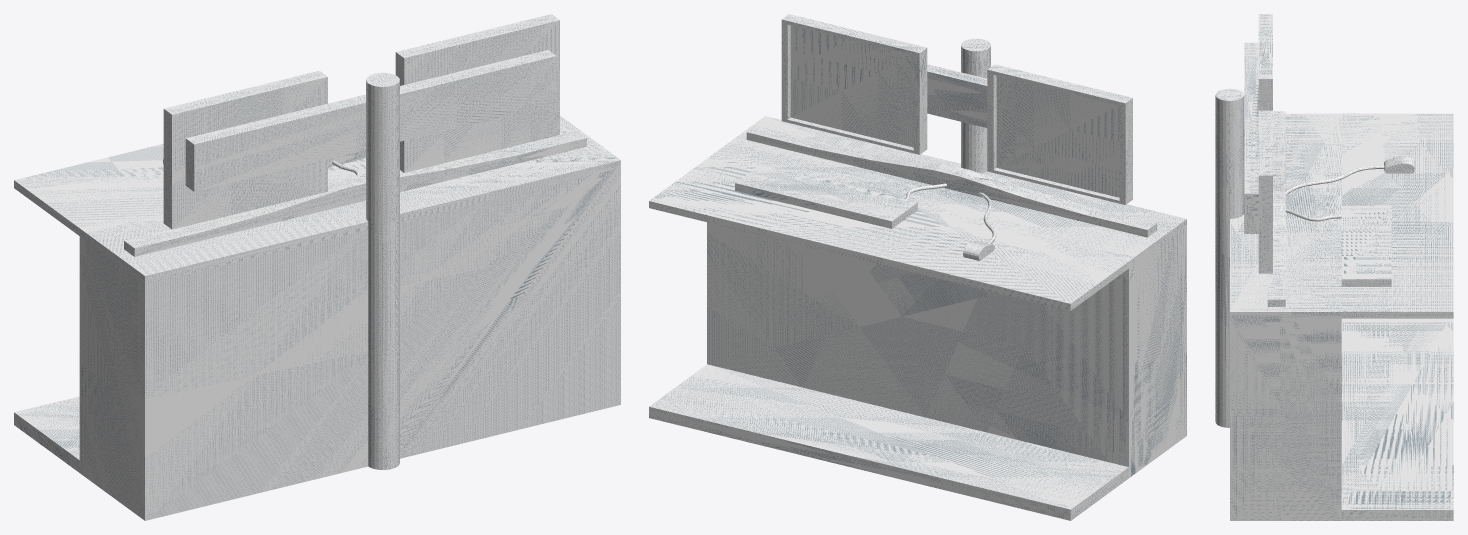
The picture shows the model from 3 angles, left to right: view 1: azimuth 30°, elevation 25°; view 2: azimuth 150°, elevation 25°; view 3: azimuth 270°, elevation 25°; orthographic projection. The views are drawn at different scales.
Visible parts, largest first — view 1: M7860_-_Monitoring_System__Cardiac_Catheterization_Lab (×3), FamilyGeomCombination_3157, FamilyGeomCombination_3074, FamilyGeomCombination_3021; view 2: M7860_-_Monitoring_System__Cardiac_Catheterization_Lab (×3), FamilyGeomCombination_3074 (×2), FamilyGeomCombination_3157 (×2), FamilyGeomCombination_3021; view 3: M7860_-_Monitoring_System__Cardiac_Catheterization_Lab (×5), FamilyGeomCombination_3021, FamilyGeomCombination_3074, FamilyGeomCombination_3157.
Boxes of the visible parts, x1,y1,x2,y2 form: M7860_-_Monitoring_System__Cardiac_Catheterization_Lab (×3): [14, 50, 620, 520]; FamilyGeomCombination_3157: [163, 70, 327, 229]; FamilyGeomCombination_3074: [395, 14, 559, 172]; FamilyGeomCombination_3021: [124, 130, 586, 256]; M7860_-_Monitoring_System__Cardiac_Catheterization_Lab (×3): [649, 38, 1186, 520]; FamilyGeomCombination_3074 (×2): [781, 14, 927, 154]; FamilyGeomCombination_3157 (×2): [987, 64, 1132, 204]; FamilyGeomCombination_3021: [746, 125, 1156, 237]; M7860_-_Monitoring_System__Cardiac_Catheterization_Lab (×5): [1215, 42, 1453, 520]; FamilyGeomCombination_3021: [1267, 111, 1285, 306]; FamilyGeomCombination_3074: [1258, 110, 1272, 273]; FamilyGeomCombination_3157: [1258, 14, 1272, 110].
Size of the model in its own units: 65 by 33 by 50.
